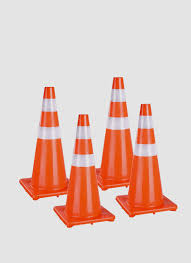cones: (52, 117, 115, 224), (116, 107, 175, 215), (21, 85, 72, 197), (94, 76, 135, 187)
